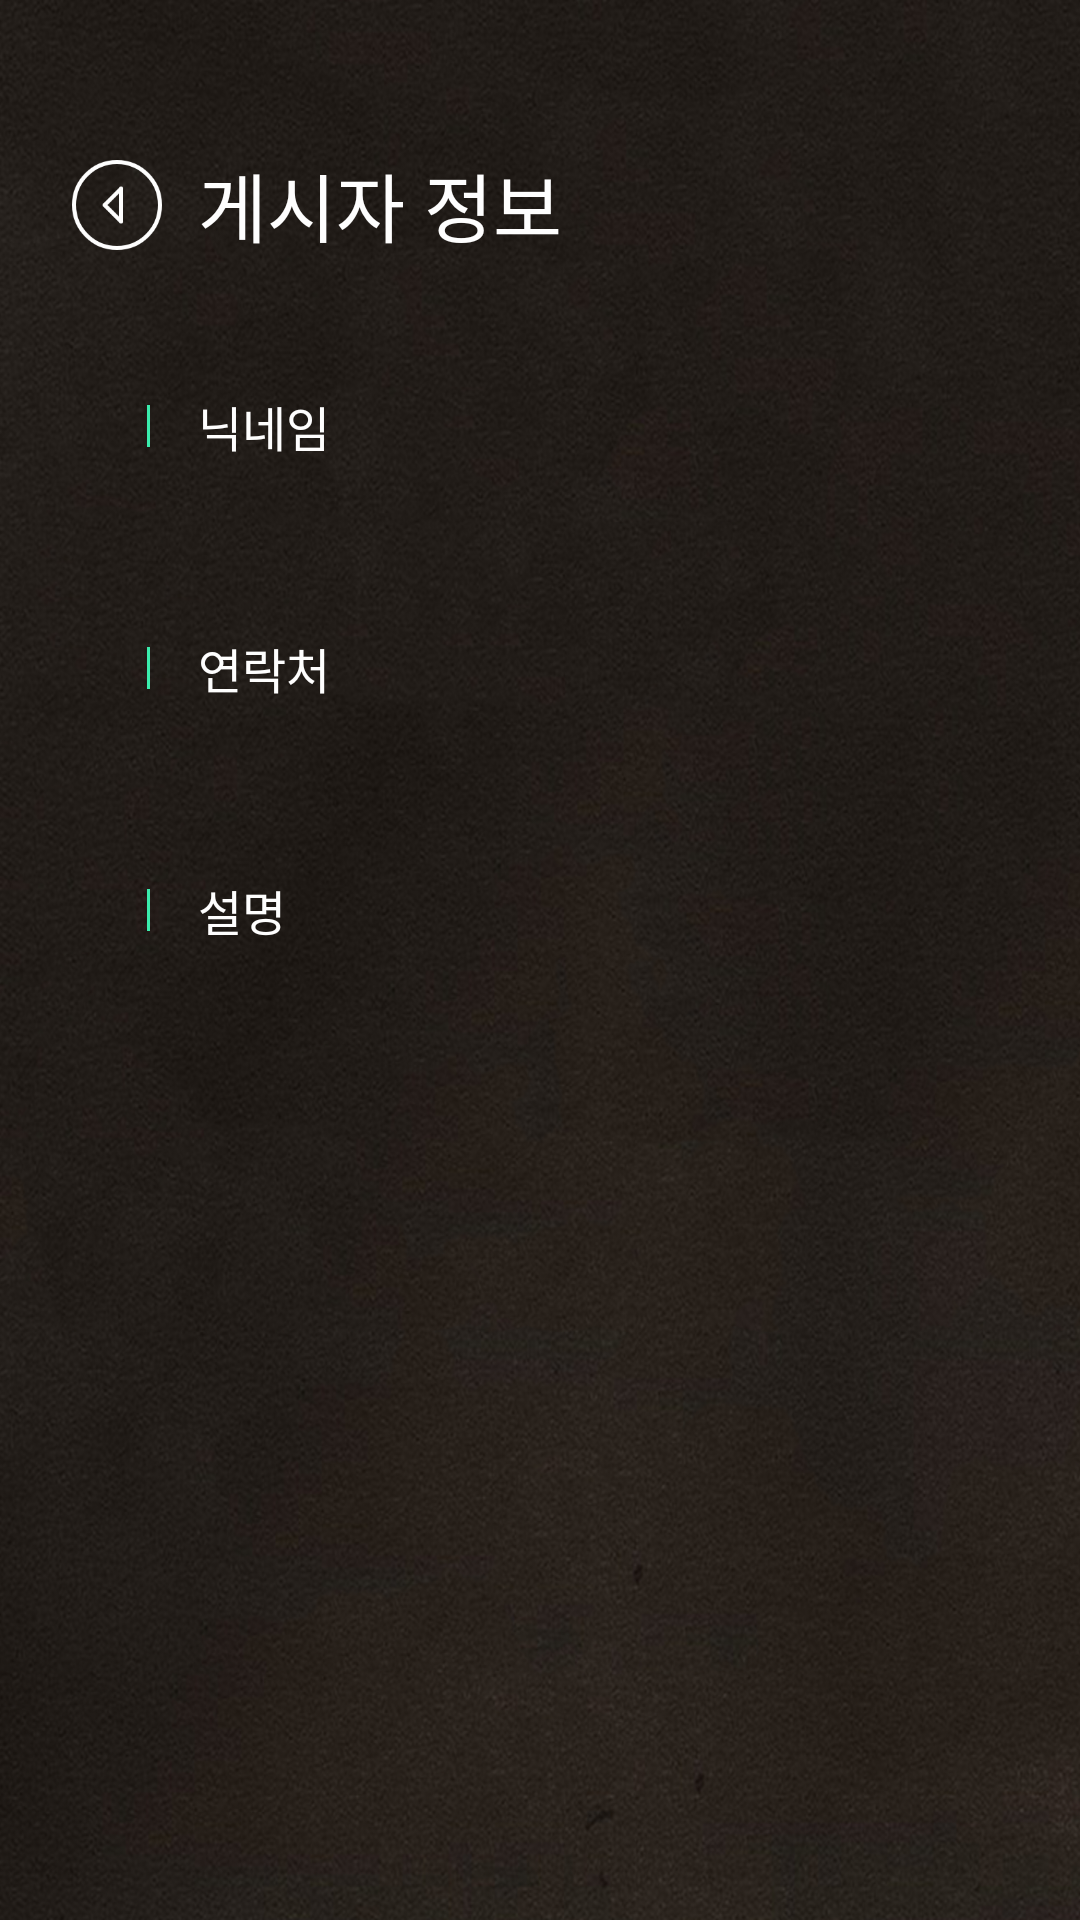

Icon click points for this 1080px×1920px phone screenshot, format point (x, y):
back: point (117, 205)
